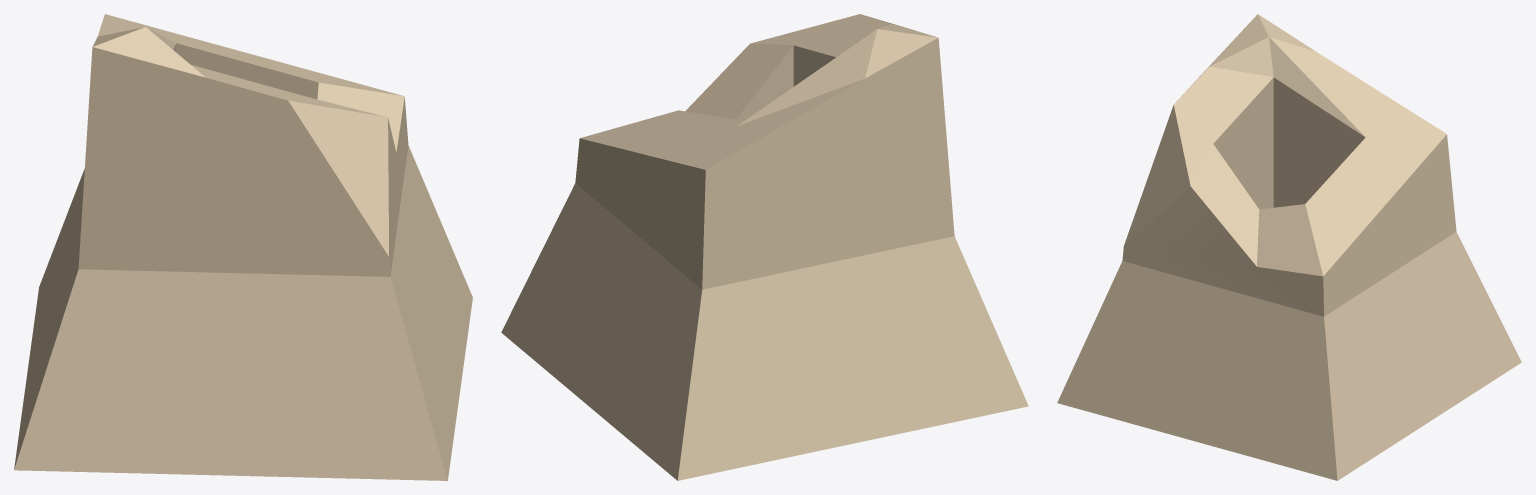
File: LightSandStoneDecorationSmallBrokenTorchBase1.fbx
The picture shows the model from 3 angles, left to right: view 1: azimuth 30°, elevation 25°; view 2: azimuth 150°, elevation 25°; view 3: azimuth 270°, elevation 25°; orthographic projection. The views are drawn at different scales.
Parts seen in each view (by area): view 1: LightSandStoneDecorationSmallBrokenTorchBase1; view 2: LightSandStoneDecorationSmallBrokenTorchBase1; view 3: LightSandStoneDecorationSmallBrokenTorchBase1.
Boxes of the visible parts, x1,y1,x2,y2 form: LightSandStoneDecorationSmallBrokenTorchBase1: (14, 14, 472, 480); LightSandStoneDecorationSmallBrokenTorchBase1: (501, 14, 1028, 480); LightSandStoneDecorationSmallBrokenTorchBase1: (1057, 14, 1521, 480).
Size of the model in its own units: 129 by 93.11 by 129.
